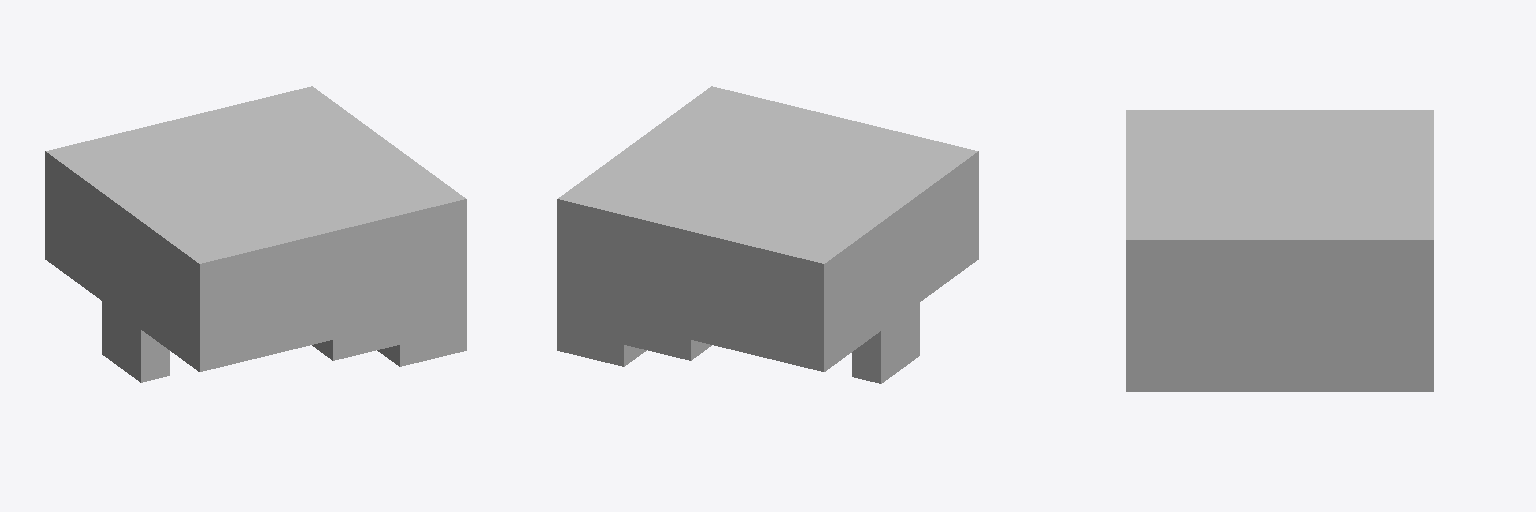
Rendered from zombie_head.obj.
3 renders of one model, left to right at view 1: azimuth 30°, elevation 25°; view 2: azimuth 150°, elevation 25°; view 3: azimuth 270°, elevation 25°, orthographic.
Visible parts, largest first — view 1: ttukbaegi; view 2: ttukbaegi; view 3: ttukbaegi.
Part boxes in pixels (bbox=[...]): ttukbaegi: bbox=[45, 86, 466, 382]; ttukbaegi: bbox=[557, 86, 978, 383]; ttukbaegi: bbox=[1126, 110, 1433, 391].
Bounding box in the file's own units: 0.4513 × 0.2614 × 0.4513.